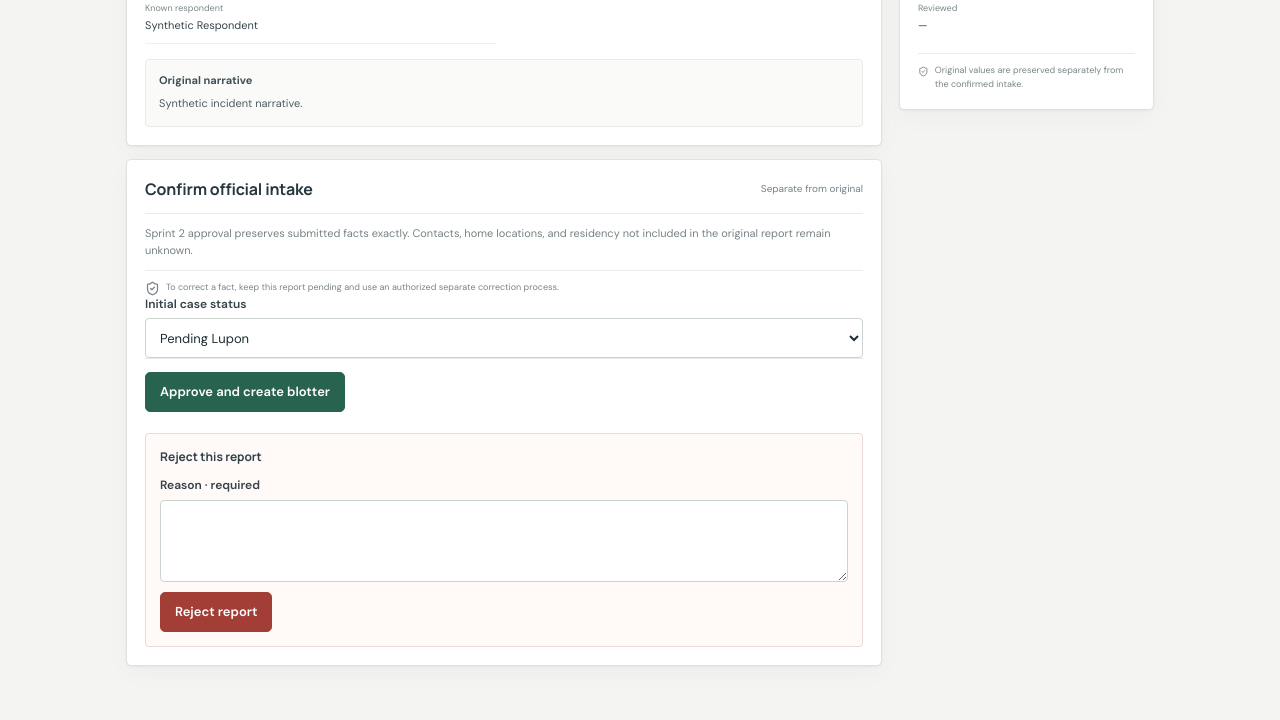
Test: resident report review retries › sends exact original facts and labels first and repeated approvals correctly
(page scrolled)
Click the button "Approve and create blotter": (245, 392) [145,372,345,412]
(page scrolled)
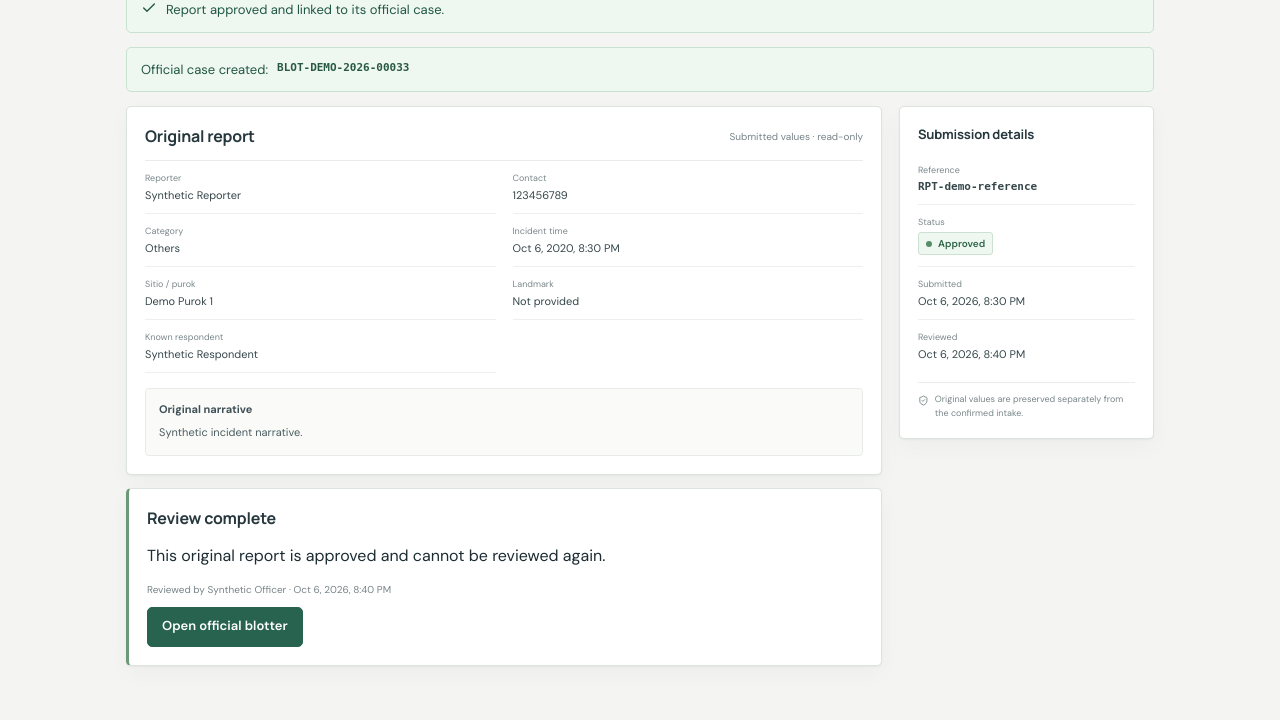
Expected: the text "Official case created: BLOT-DEMO-2026-00033" is shown, [126,47,1154,92]
